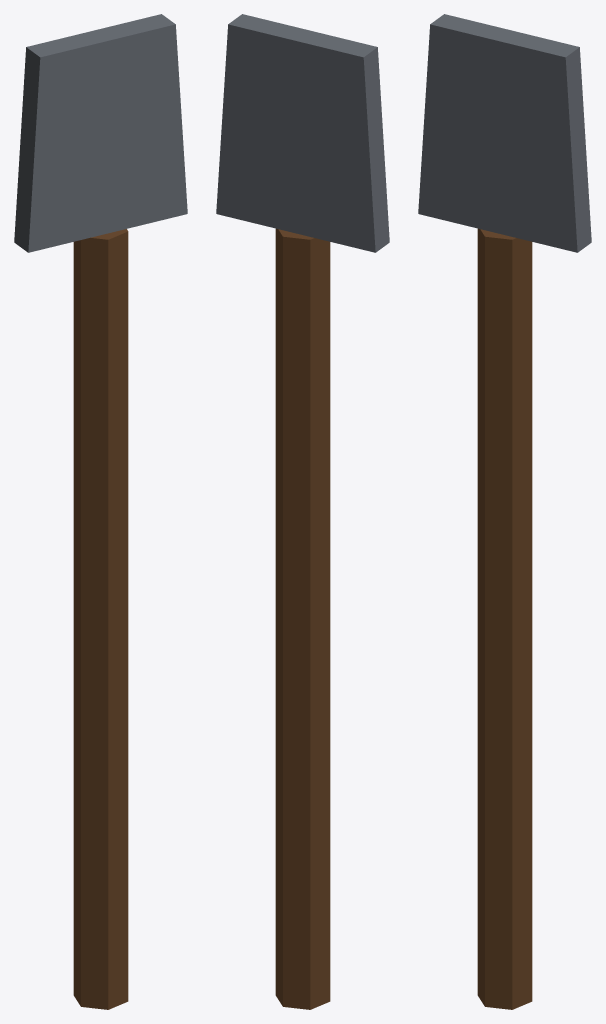
The model's file is tool_shovel.glb.
The picture shows the model from 3 angles, left to right: view 1: azimuth 30°, elevation 25°; view 2: azimuth 150°, elevation 25°; view 3: azimuth 330°, elevation 25°; orthographic projection.
Visible parts, largest first — view 1: tool_shovel; view 2: tool_shovel; view 3: tool_shovel.
Part boxes in pixels (x1,y1,x2,y2): tool_shovel: [14, 14, 187, 1009]; tool_shovel: [216, 14, 389, 1009]; tool_shovel: [418, 14, 591, 1009].
Size of the model in its own units: 0.156 by 0.9 by 0.0464.
